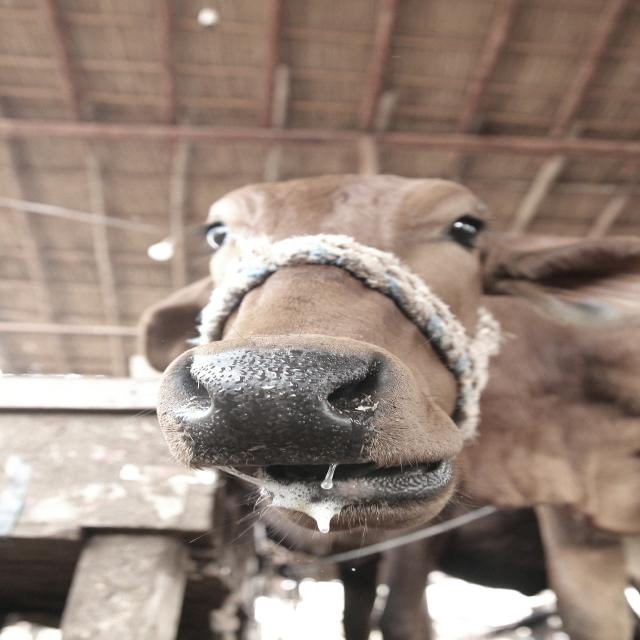muzzles: (152, 336, 394, 476)
